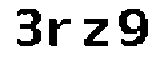3: (13, 7, 44, 49)
9: (117, 5, 153, 51)
r: (47, 15, 72, 48)
z: (81, 17, 113, 48)
